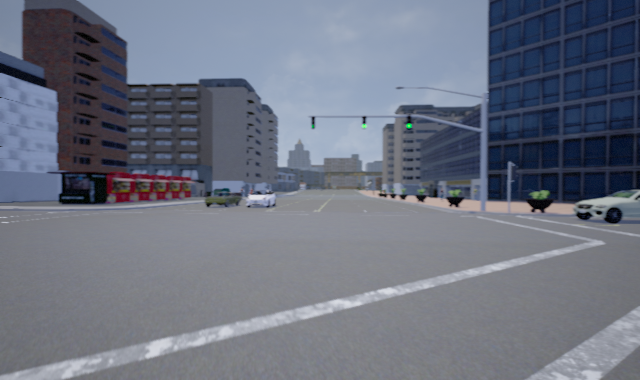vehicle: (572, 189, 639, 224), (205, 188, 241, 208), (244, 190, 278, 207)
